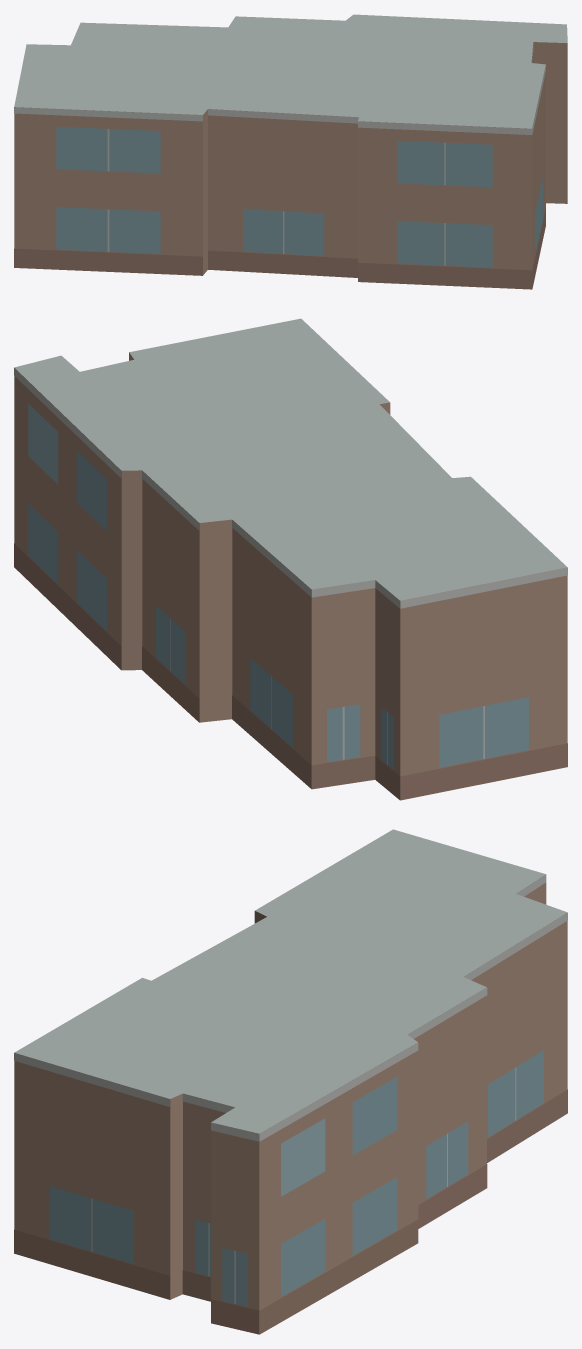
Rendered from survey-upis-32674691.glb.
The picture shows the model from 3 angles, top to bottom: view 1: azimuth 30°, elevation 25°; view 2: azimuth 150°, elevation 25°; view 3: azimuth 270°, elevation 25°; orthographic projection. The views are drawn at different scales.
Parts seen in each view (by area): view 1: survey-upis-32674691.tmp; view 2: survey-upis-32674691.tmp; view 3: survey-upis-32674691.tmp.
Boxes of the visible parts, x1,y1,x2,y2 form: survey-upis-32674691.tmp: (14, 14, 567, 289); survey-upis-32674691.tmp: (14, 318, 567, 800); survey-upis-32674691.tmp: (14, 829, 567, 1334).
Bounding box in the file's own units: 19.84 × 6.1 × 15.25.
